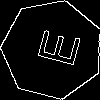E: (27, 25, 81, 69)
